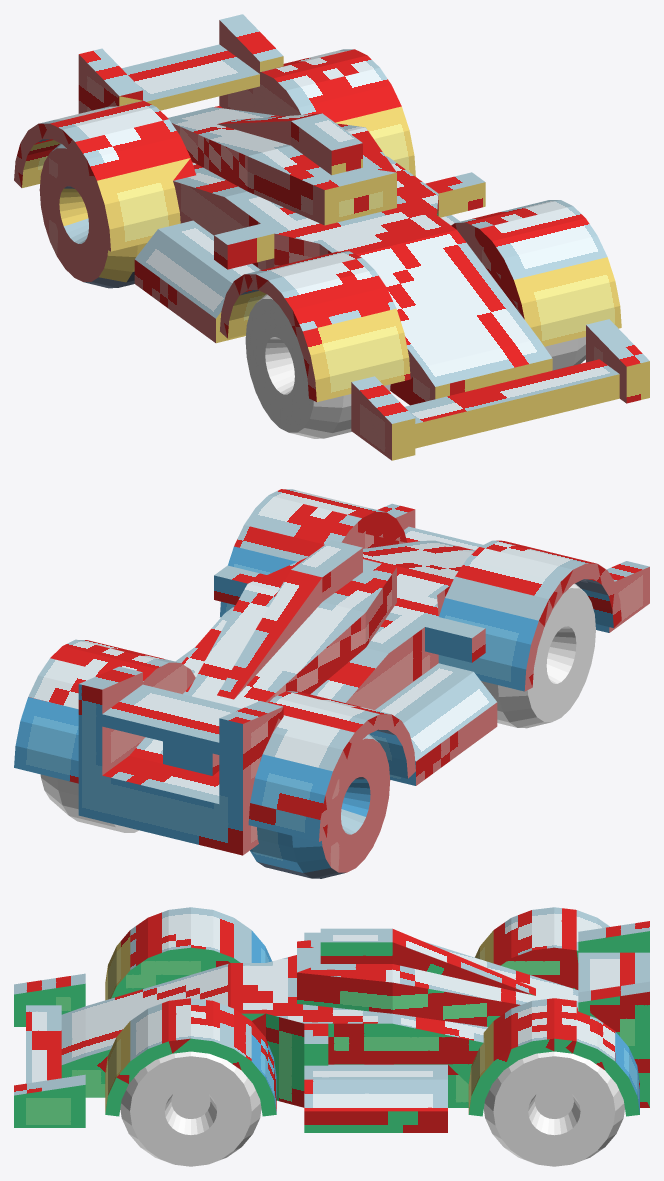
3 renders of one model, top to bottom at view 1: azimuth 30°, elevation 25°; view 2: azimuth 150°, elevation 25°; view 3: azimuth 270°, elevation 25°, orthographic. The views are drawn at different scales.
Parts seen in each view (by area): view 1: body, wheel_frontRight, wheel_backRight, wheel_frontLeft; view 2: body, wheel_backRight, wheel_frontRight, wheel_backLeft; view 3: body, wheel_frontLeft, wheel_backLeft.
Part boxes in pixels (box(x1,y1,x2,y2)): body: box(14, 14, 649, 460); wheel_frontRight: box(245, 294, 390, 438); wheel_backRight: box(39, 143, 146, 288); wheel_frontLeft: box(545, 336, 585, 370); body: box(14, 489, 649, 855); wheel_backRight: box(250, 734, 390, 878); wheel_frontRight: box(481, 583, 595, 728); wheel_backLeft: box(40, 774, 138, 832); body: box(14, 907, 649, 1132); wheel_frontLeft: box(120, 1051, 261, 1166); wheel_backLeft: box(484, 1051, 624, 1166).
Bounding box in the file's own units: 1.3 × 0.8325 × 2.66.
Materials: 3 (2 with a texture image).
